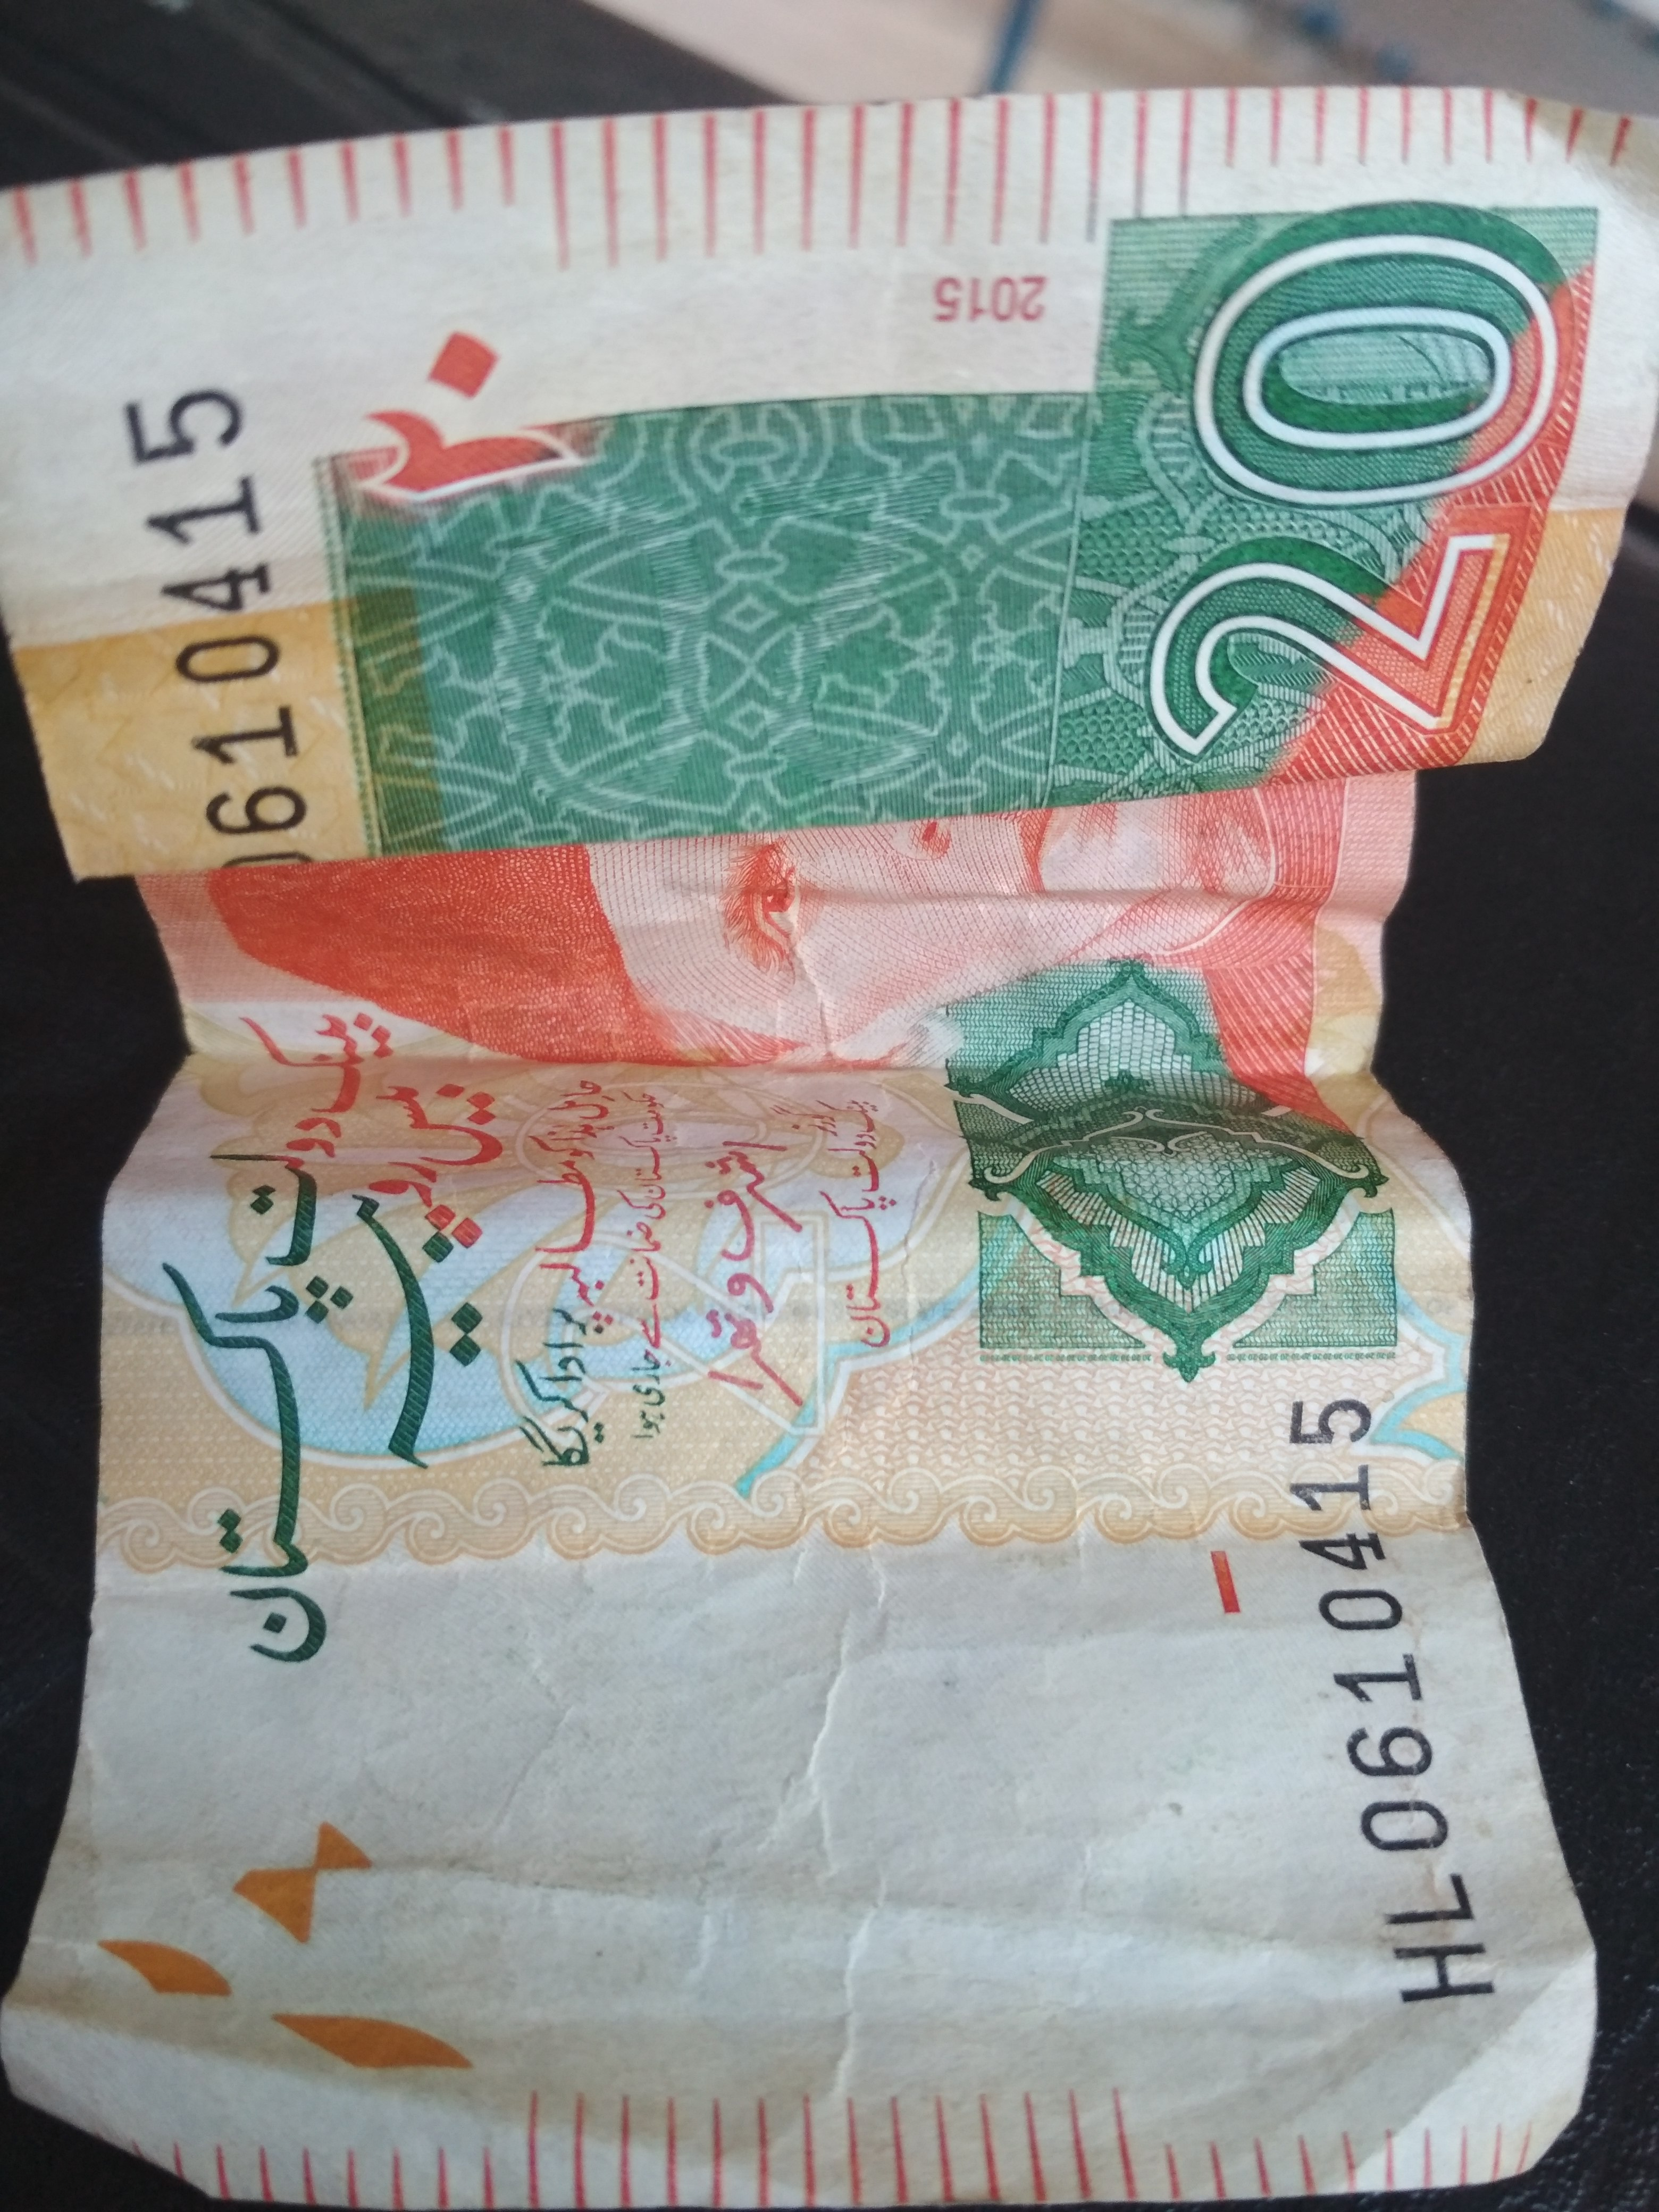20 rupee: (21, 85, 1657, 2198)
